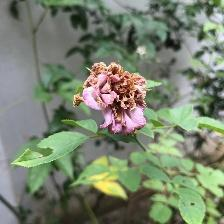rose: (73, 60, 150, 139)
